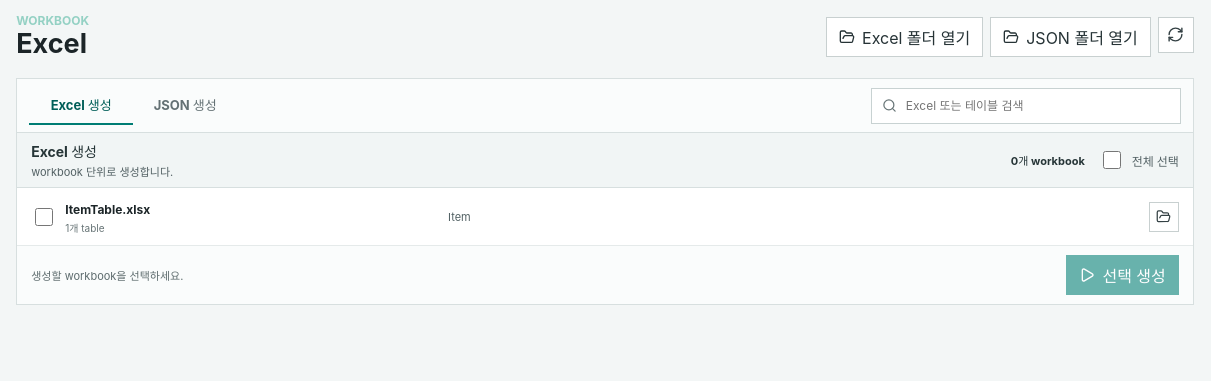
Scenario: ExcelScreen collision policy › validates every existing workbook from the JSON generation tab
Click the tab "JSON 생성" at (185, 106), box [133,86,237,125]
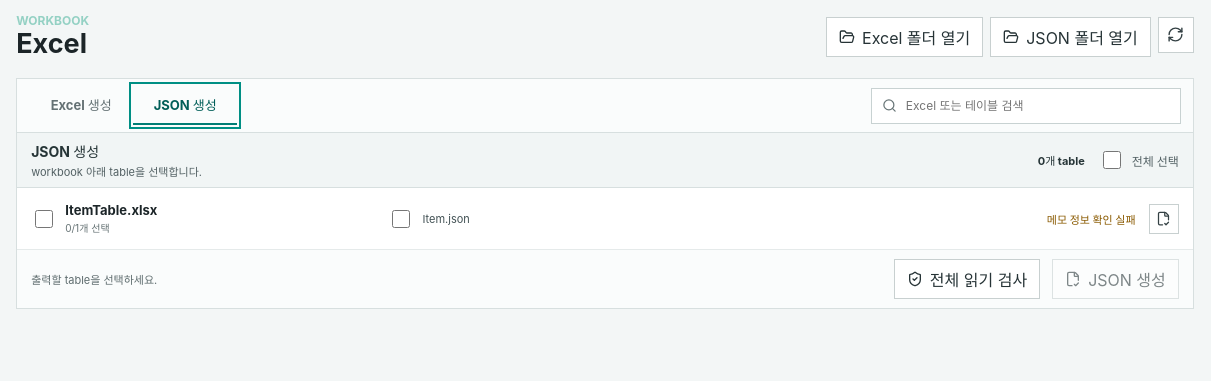
Click the button "전체 읽기 검사" at (967, 279), box [894,259,1040,299]
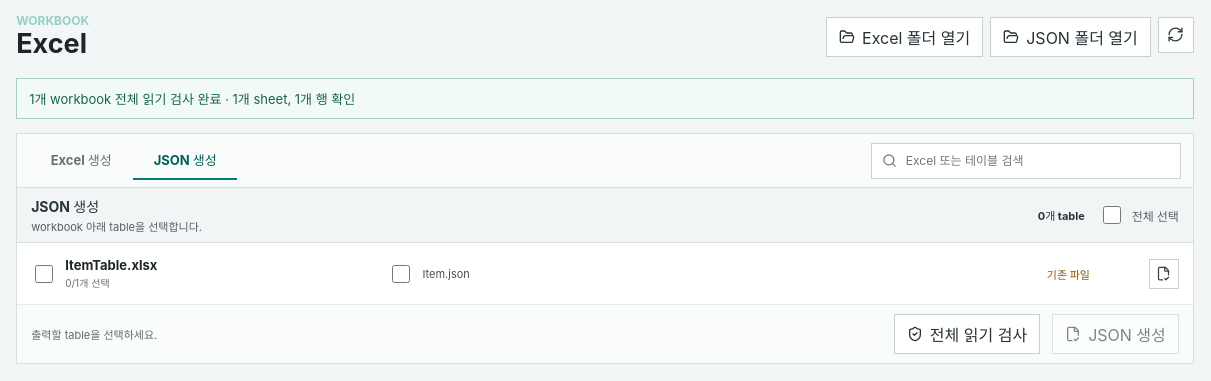
Expected: the text "1개 workbook 전체 읽기 검사 완료 · 1개 sheet, 1개 행 확인" is shown, [16,78,1194,119]
